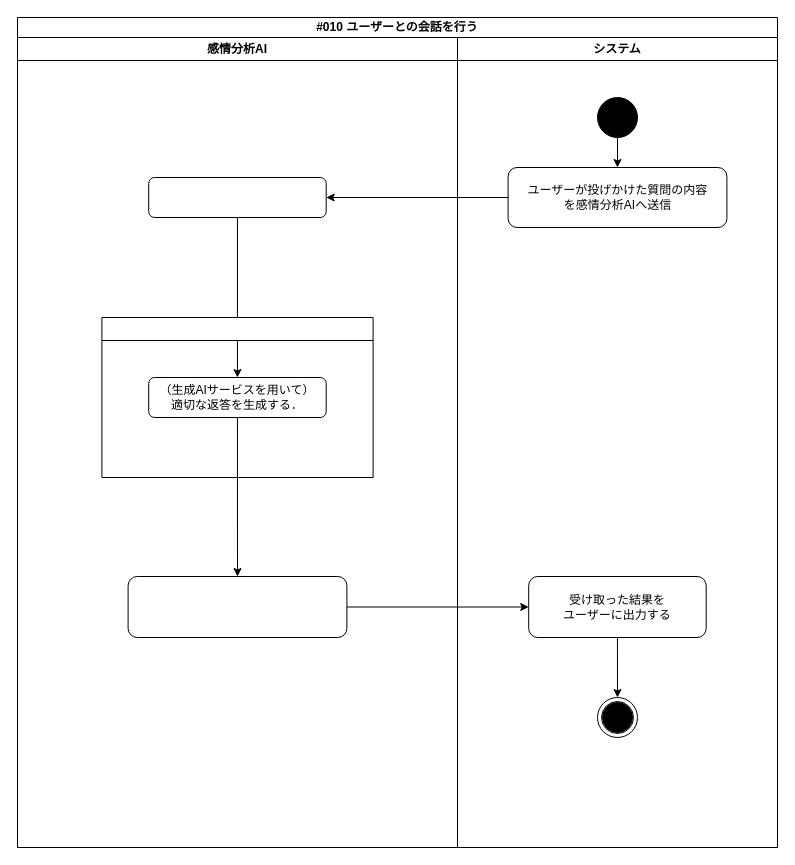
Some shapes in this 795 by 865 pixel diagram are drawn without their labels. Here are the shapes that lost their labels. From the top down, the centre of each, then its label:
At point 237,197: "システムからユーザーの 質問内容を取得".
At point 237,397: "生成AIサービス".
At point 237,607: "体裁を整えて， システムに生成結果をシステムに返す．".
